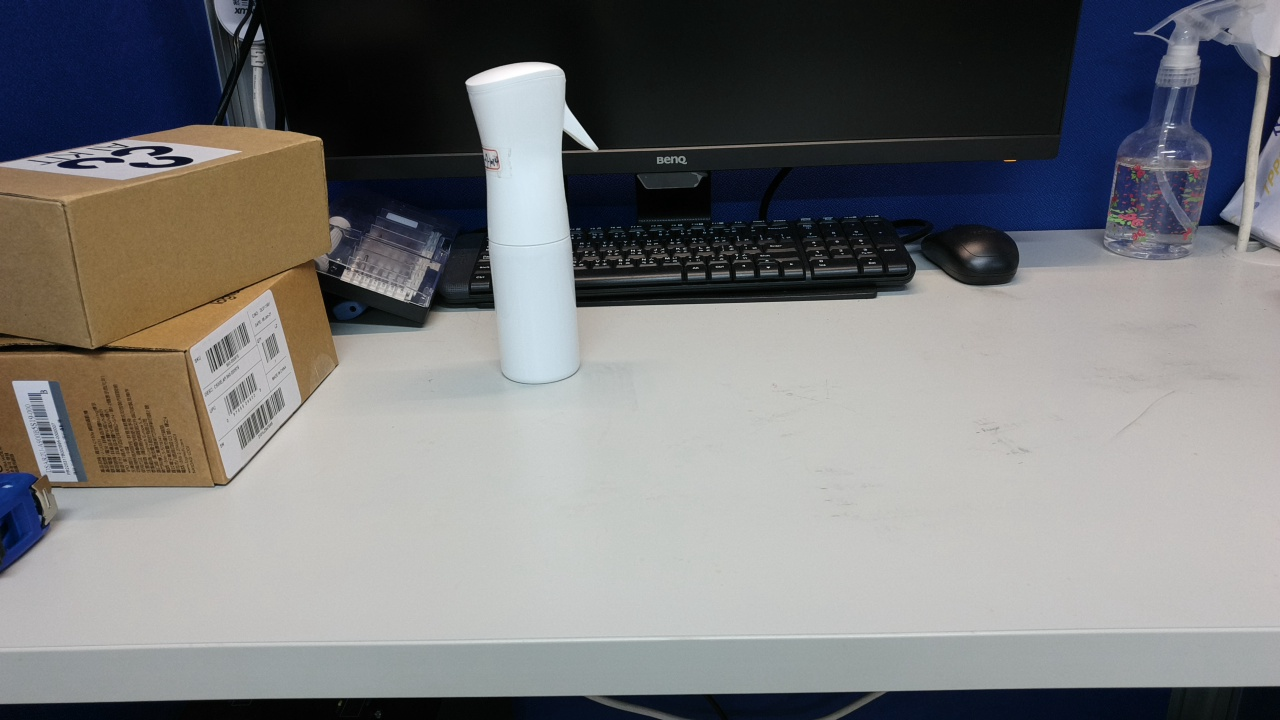long: (425, 467, 664, 605)
